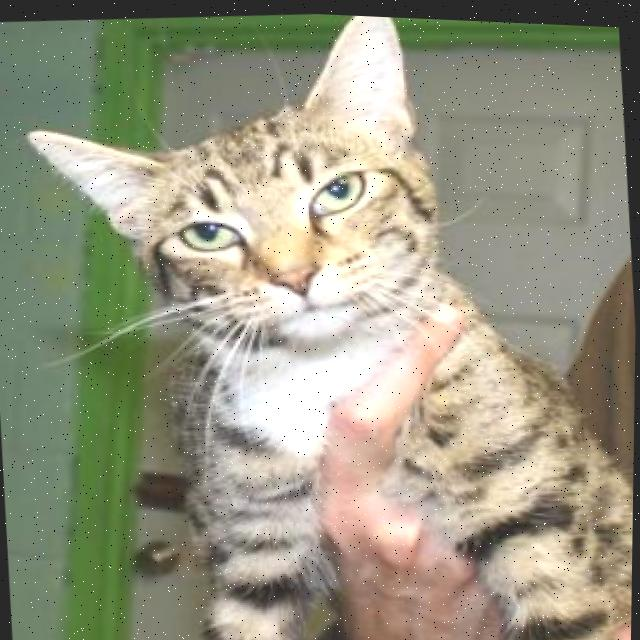Egyptian Mau: (9, 1, 640, 640)
